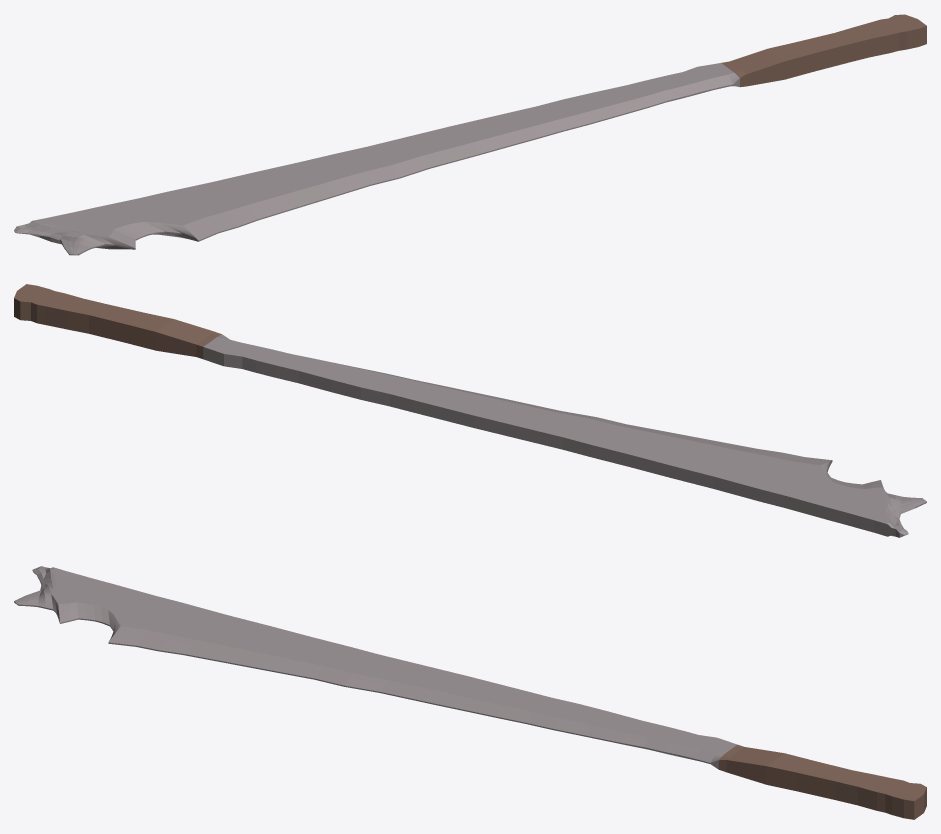
File: sword.fbx
The picture shows the model from 3 angles, top to bottom: view 1: azimuth 30°, elevation 25°; view 2: azimuth 150°, elevation 25°; view 3: azimuth 330°, elevation 25°; orthographic projection. The views are drawn at different scales.
Visible parts, largest first — view 1: Plane; view 2: Plane; view 3: Plane.
Boxes of the visible parts, x1,y1,x2,y2 form: Plane: (14, 14, 926, 255); Plane: (14, 284, 926, 537); Plane: (14, 566, 926, 819).
Size of the model in its own units: 610 by 12 by 69.41.
